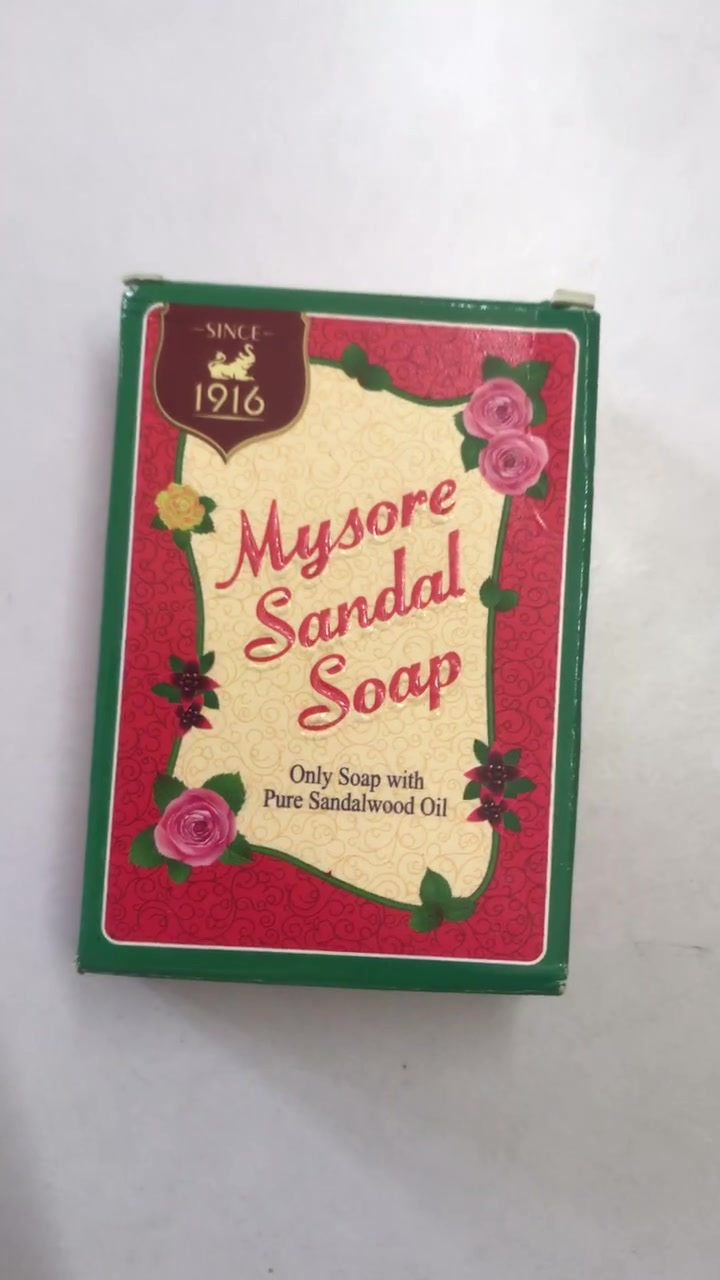mysore sandal soap: (78, 288, 569, 999)
